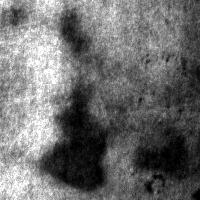patches: (40, 85, 107, 188), (38, 144, 136, 200), (135, 124, 190, 179), (62, 11, 87, 55)
